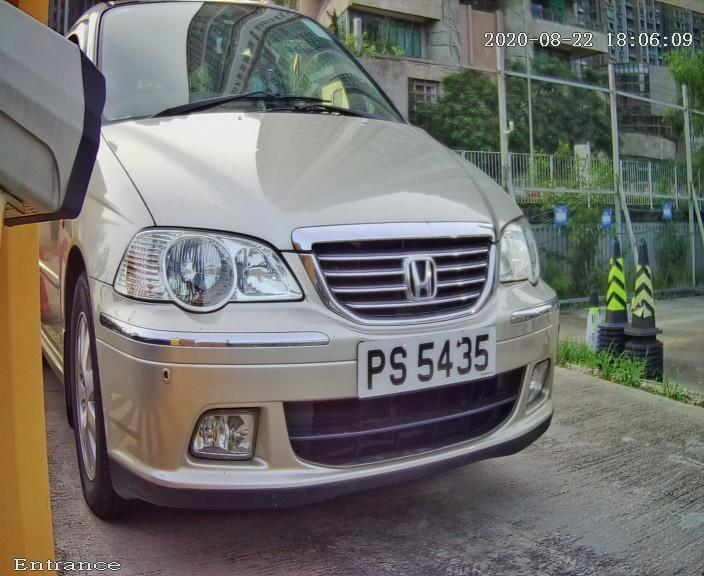Car: (18, 26, 619, 540)
License Plate: (331, 299, 536, 420)
